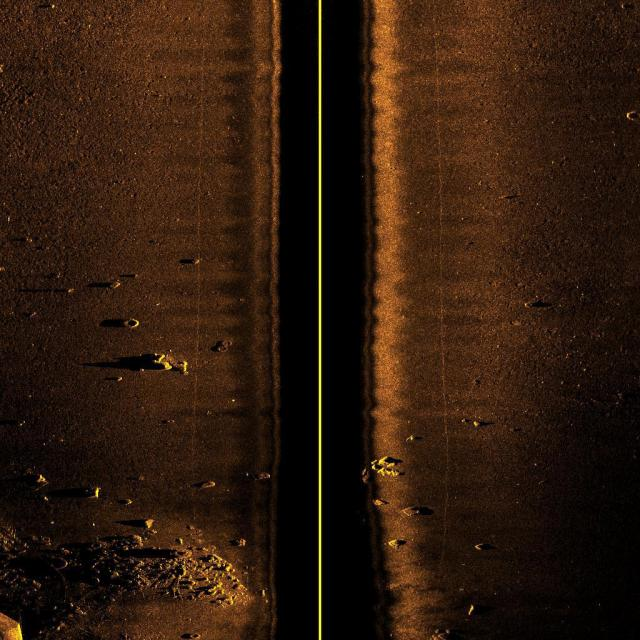mine: (43, 483, 105, 501), (84, 280, 122, 290)
other: (106, 316, 143, 332)
